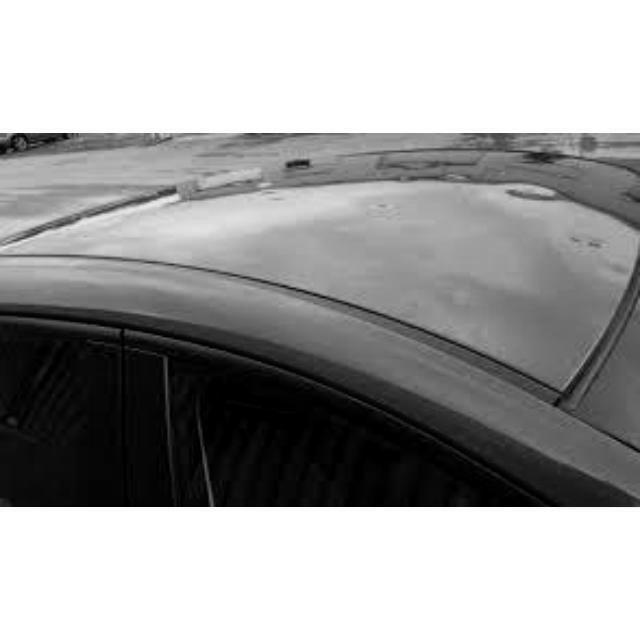roof-dent: (336, 148, 501, 396), (501, 154, 633, 399)
